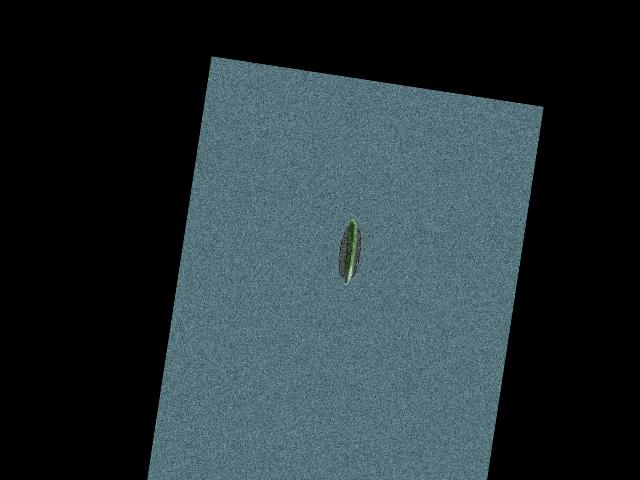cucumber: (339, 218, 359, 286)
